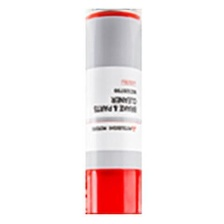aerosol_cans: (82, 8, 145, 216)
